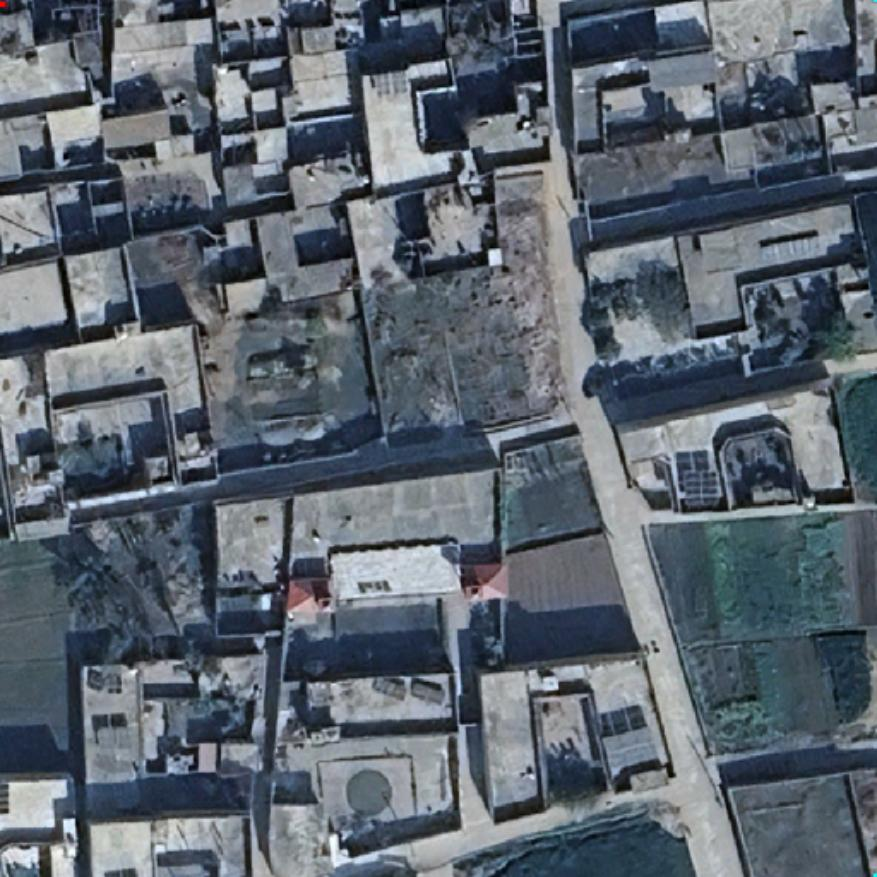Solarpanel: (600, 723, 661, 781), (761, 233, 829, 265), (373, 66, 412, 100), (96, 724, 139, 748), (408, 678, 446, 705), (682, 470, 718, 496), (372, 674, 406, 699), (103, 671, 123, 694), (1, 779, 10, 813)
